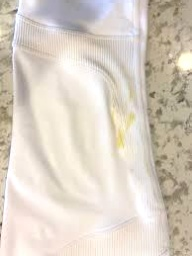mustard: (116, 115, 135, 148), (130, 80, 139, 103)
